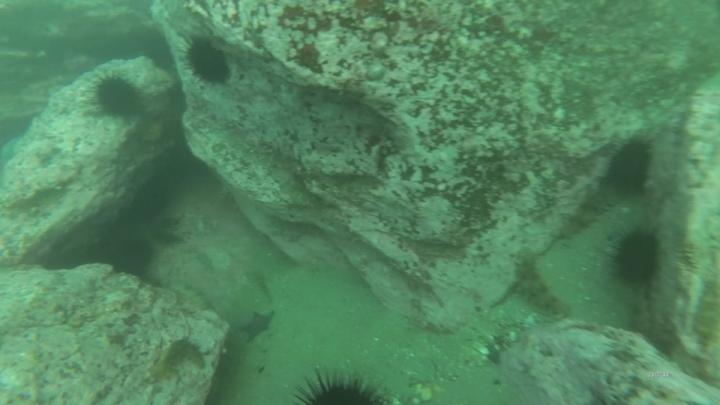echinus: (610, 220, 667, 295), (604, 135, 659, 198), (185, 35, 232, 89), (94, 74, 144, 120)
holothurian: (515, 253, 571, 321), (150, 337, 208, 385)
starfish: (238, 309, 278, 347)
